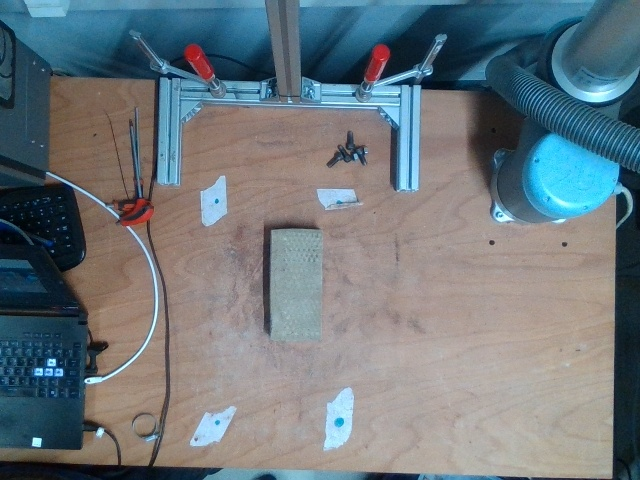brick: (272, 232, 320, 339)
